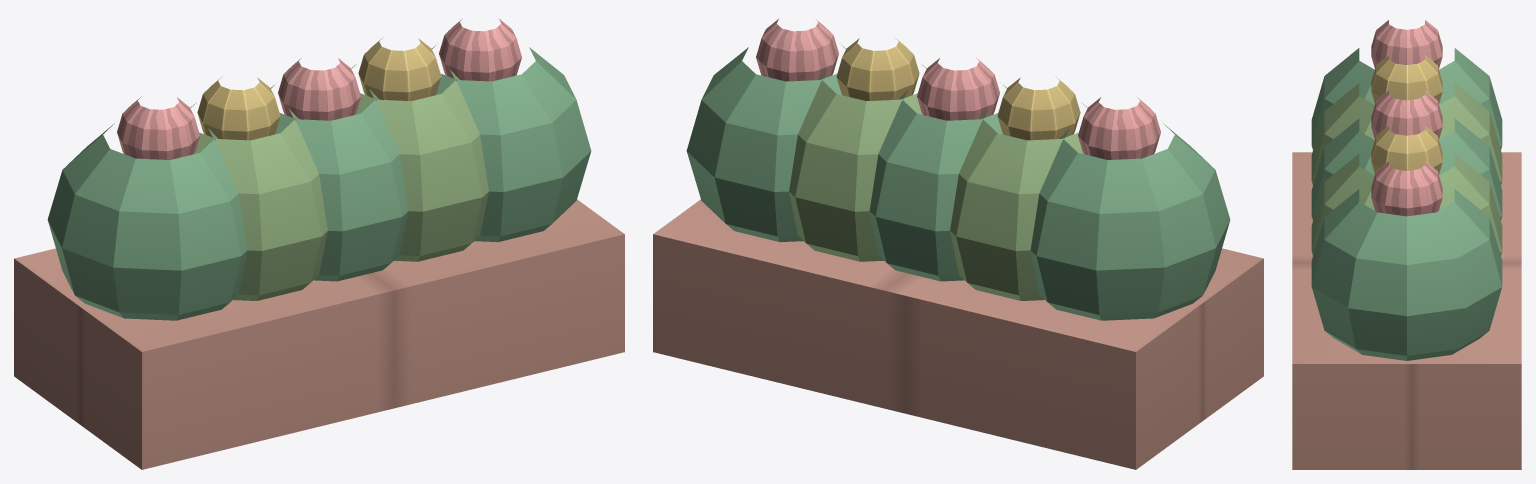
Rendered from flower_planter.glb.
The picture shows the model from 3 angles, left to right: view 1: azimuth 30°, elevation 25°; view 2: azimuth 150°, elevation 25°; view 3: azimuth 270°, elevation 25°; orthographic projection. The views are drawn at different scales.
Parts seen in each view (by area): view 1: flower_planter; view 2: flower_planter; view 3: flower_planter.
Part boxes in pixels (x1,y1,x2,y2): flower_planter: (14,19,624,469); flower_planter: (653,19,1263,469); flower_planter: (1292,20,1521,469).
Size of the model in its own units: 2.56 by 1.46 by 1.1.
Materials: 1 (1 with a texture image).
